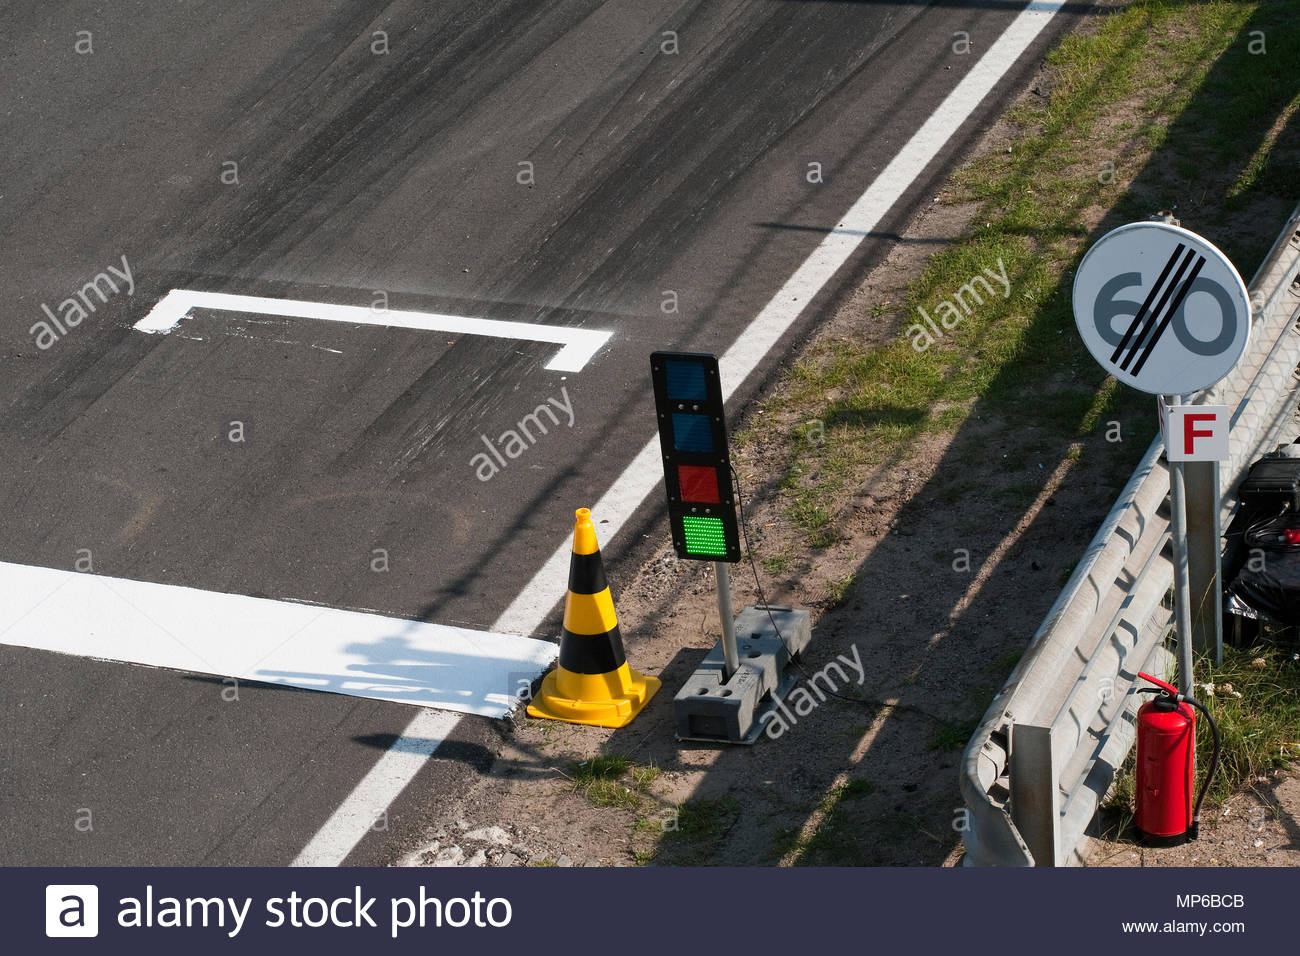aufgehoben: (1070, 221, 1251, 398)
